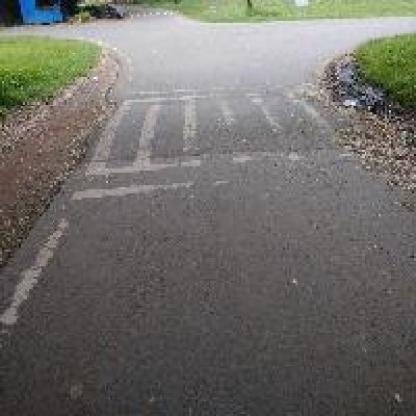Speed Bump: (69, 81, 364, 202)
